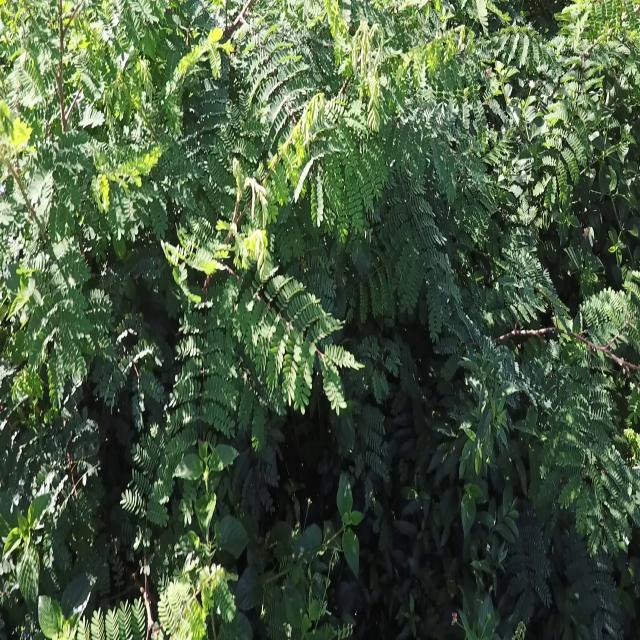Mysore-Thorn-Weed: (177, 78, 356, 486), (441, 266, 640, 534), (333, 0, 477, 331), (462, 0, 622, 249), (0, 0, 107, 372), (65, 461, 227, 640)
